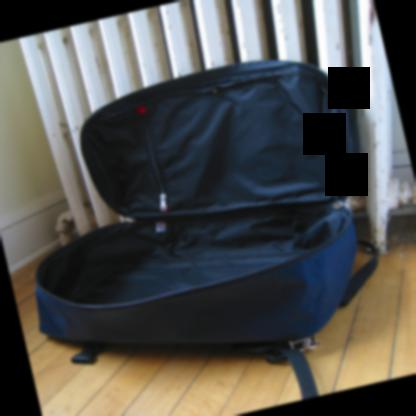suitcase: (34, 59, 381, 400)
